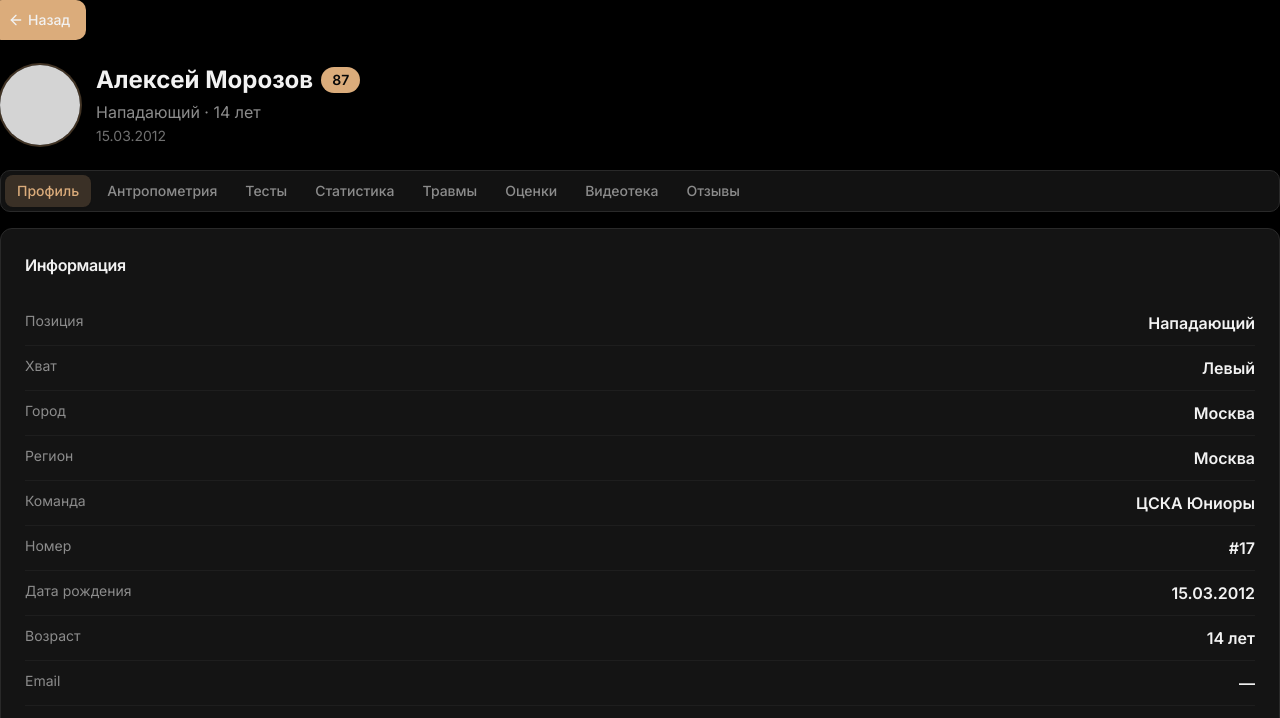
Test: PlayerProfilePage › переключение на вкладку Травмы показывает данные
Click the tab "Травмы" at x=450, y=191, box [410,175,489,207]
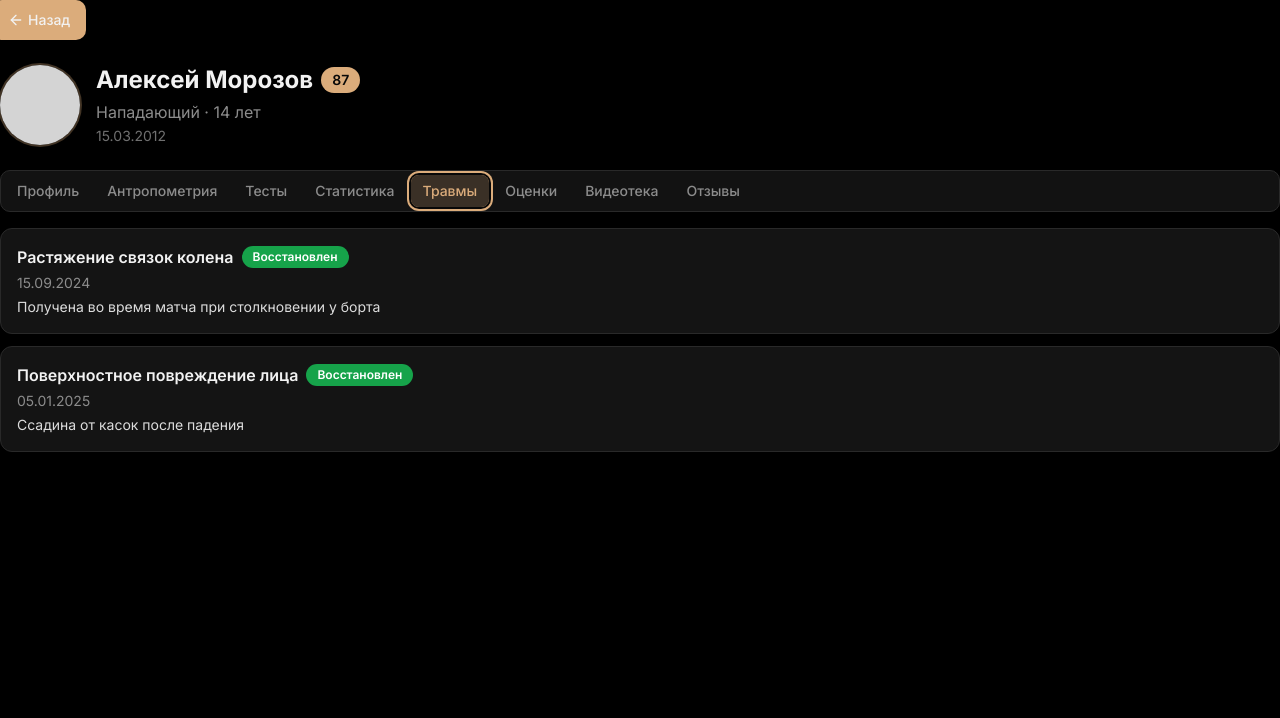
Check: the text "Растяжение связок колена" is shown, box [17,245,234,269]
